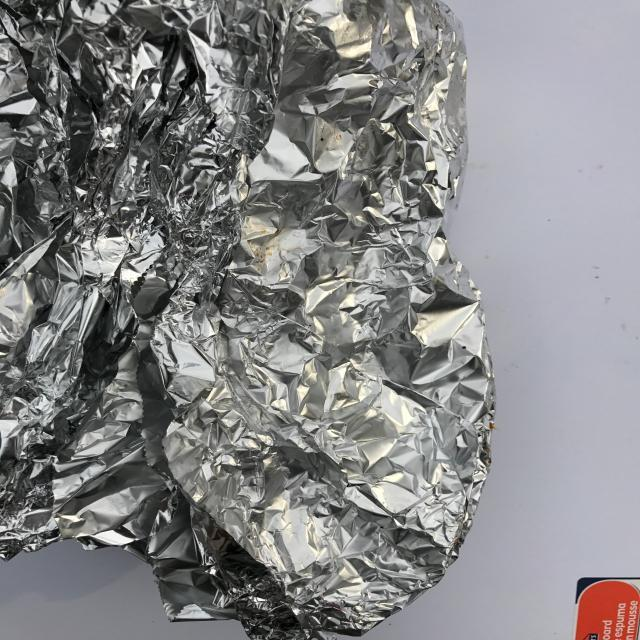metal: (1, 1, 498, 640)
